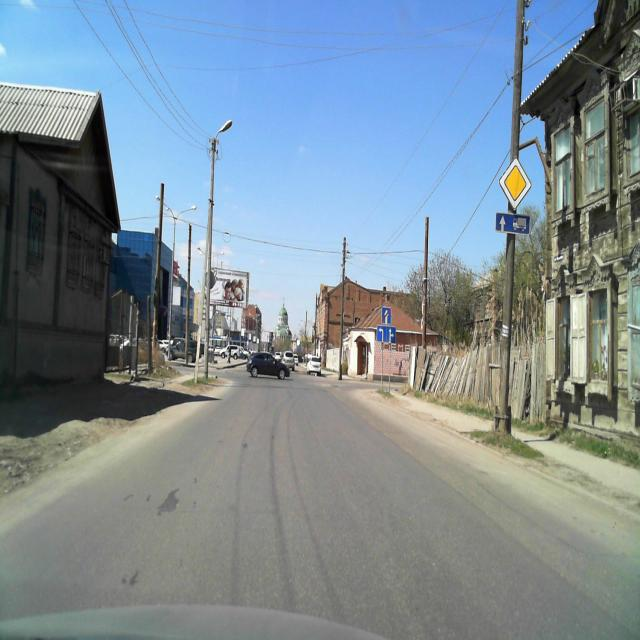road sign: (499, 156, 532, 210), (495, 212, 530, 235), (376, 324, 396, 343), (381, 306, 391, 325)
